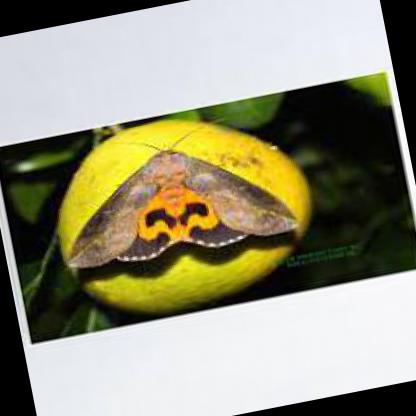fruit sucking moth: (69, 152, 296, 268)
